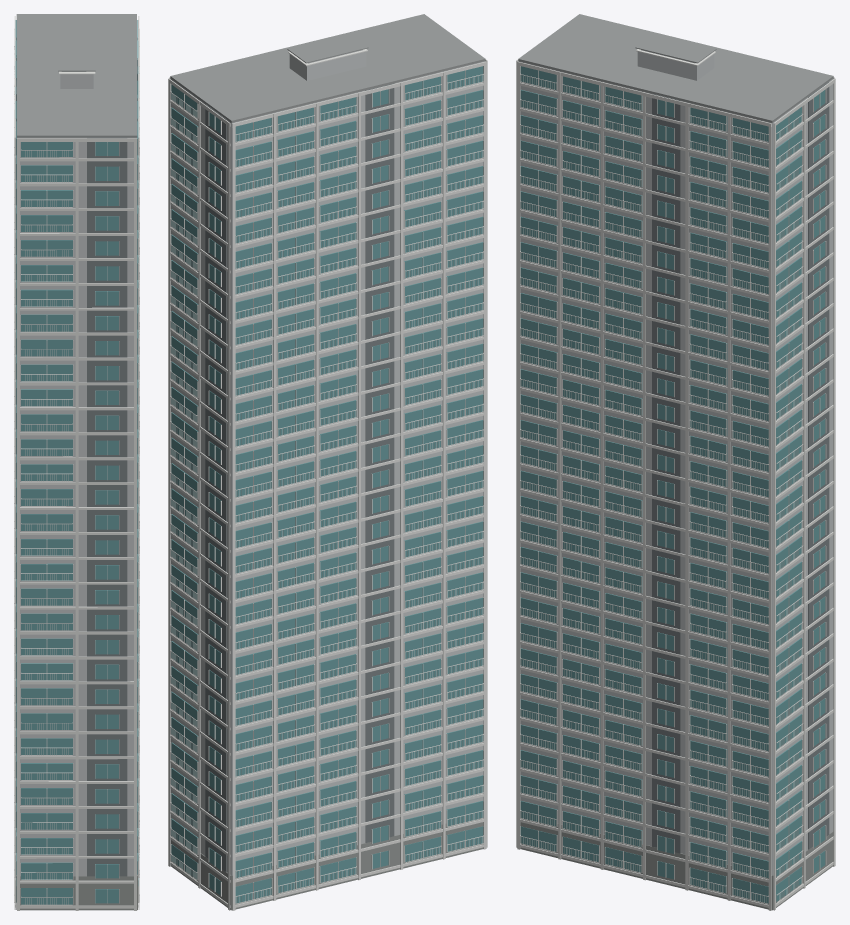
The model's file is bespoke-jamsil-ricenz-253.glb.
3 views of the same model, side by side, from view 1: azimuth 30°, elevation 25°; view 2: azimuth 150°, elevation 25°; view 3: azimuth 270°, elevation 25° (orthographic).
Visible parts, largest first — view 1: Ricenz253_editable_Ricenz253_turquoise_balcony_glazing, Ricenz253_white_exact_chunk_2, Ricenz253_editable_Ricenz253_light_grey_solid_wall, Ricenz253_editable_Ricenz253_narrow_charcoal_service_strips, Ricenz253_editable_Ricenz253_modest_grey_flat_roof_caps, Ricenz253_editable_Ricenz253_muted_ground_wall, Ricenz253_white_exact_chunk_5, Ricenz253_white_exact_chunk_3, Ricenz253_white_exact_chunk_1, Ricenz253_white_exact_chunk_4; view 2: Ricenz253_editable_Ricenz253_turquoise_balcony_glazing, Ricenz253_editable_Ricenz253_light_grey_solid_wall, Ricenz253_white_exact_chunk_1, Ricenz253_white_exact_chunk_2, Ricenz253_white_exact_chunk_0, Ricenz253_white_exact_chunk_5, Ricenz253_editable_Ricenz253_narrow_charcoal_service_strips, Ricenz253_editable_Ricenz253_modest_grey_flat_roof_caps, Ricenz253_editable_Ricenz253_muted_ground_wall; view 3: Ricenz253_editable_Ricenz253_turquoise_balcony_glazing, Ricenz253_editable_Ricenz253_light_grey_solid_wall, Ricenz253_white_exact_chunk_5, Ricenz253_white_exact_chunk_4, Ricenz253_white_exact_chunk_3, Ricenz253_editable_Ricenz253_narrow_charcoal_service_strips, Ricenz253_editable_Ricenz253_modest_grey_flat_roof_caps, Ricenz253_white_exact_chunk_2, Ricenz253_editable_Ricenz253_muted_ground_wall.
Boxes of the visible parts, <box> form: Ricenz253_editable_Ricenz253_turquoise_balcony_glazing: <box>15,20,138,904</box>; Ricenz253_white_exact_chunk_2: <box>14,16,139,910</box>; Ricenz253_editable_Ricenz253_light_grey_solid_wall: <box>16,57,137,876</box>; Ricenz253_editable_Ricenz253_narrow_charcoal_service_strips: <box>16,60,137,876</box>; Ricenz253_editable_Ricenz253_modest_grey_flat_roof_caps: <box>16,14,137,137</box>; Ricenz253_editable_Ricenz253_muted_ground_wall: <box>16,832,137,910</box>; Ricenz253_white_exact_chunk_5: <box>59,16,139,909</box>; Ricenz253_white_exact_chunk_3: <box>138,109,139,874</box>; Ricenz253_white_exact_chunk_1: <box>14,69,15,907</box>; Ricenz253_white_exact_chunk_4: <box>138,40,139,818</box>; Ricenz253_editable_Ricenz253_turquoise_balcony_glazing: <box>171,66,483,903</box>; Ricenz253_editable_Ricenz253_light_grey_solid_wall: <box>170,49,485,875</box>; Ricenz253_white_exact_chunk_1: <box>318,76,483,877</box>; Ricenz253_white_exact_chunk_2: <box>232,59,487,910</box>; Ricenz253_white_exact_chunk_0: <box>235,107,358,907</box>; Ricenz253_white_exact_chunk_5: <box>168,49,367,910</box>; Ricenz253_editable_Ricenz253_narrow_charcoal_service_strips: <box>205,83,394,871</box>; Ricenz253_editable_Ricenz253_modest_grey_flat_roof_caps: <box>170,14,485,122</box>; Ricenz253_editable_Ricenz253_muted_ground_wall: <box>170,818,483,910</box>; Ricenz253_editable_Ricenz253_turquoise_balcony_glazing: <box>520,66,825,903</box>; Ricenz253_editable_Ricenz253_light_grey_solid_wall: <box>518,49,833,875</box>; Ricenz253_white_exact_chunk_5: <box>517,49,835,910</box>; Ricenz253_white_exact_chunk_4: <box>603,87,768,907</box>; Ricenz253_white_exact_chunk_3: <box>520,66,642,877</box>; Ricenz253_editable_Ricenz253_narrow_charcoal_service_strips: <box>652,82,829,853</box>; Ricenz253_editable_Ricenz253_modest_grey_flat_roof_caps: <box>518,14,833,122</box>; Ricenz253_white_exact_chunk_2: <box>516,59,834,856</box>; Ricenz253_editable_Ricenz253_muted_ground_wall: <box>520,818,833,910</box>.
Size of the model in its own units: 27 by 93.91 by 33.59.
